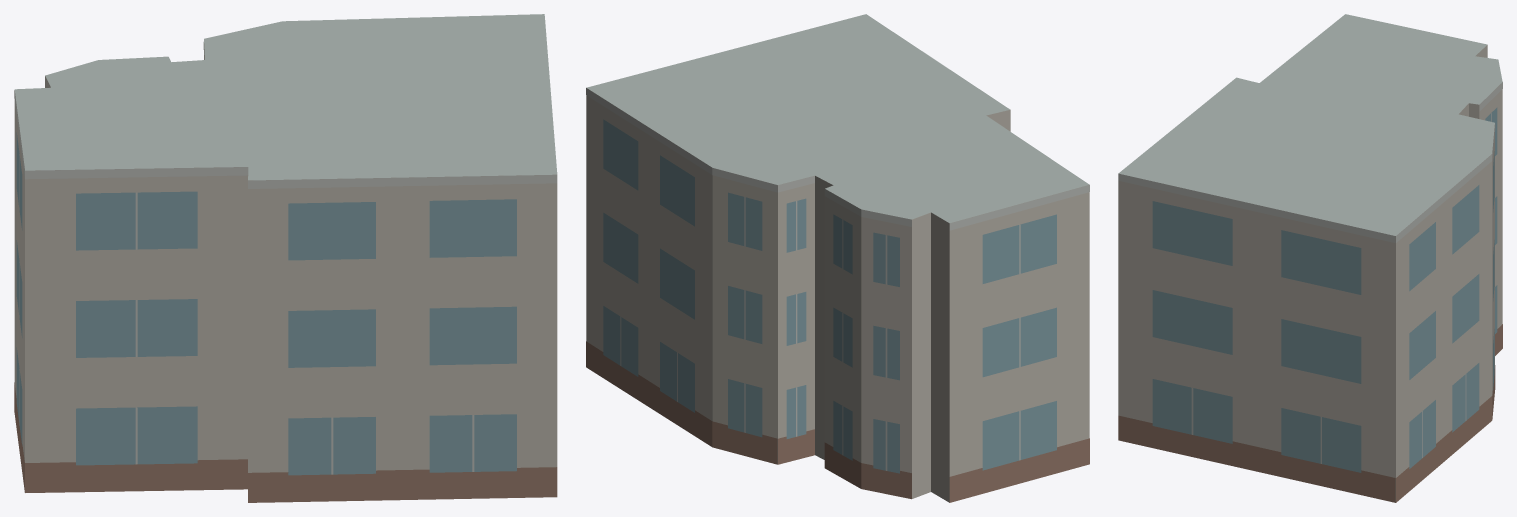
The model's file is survey-upis-32684279.glb.
3 renders of one model, left to right at view 1: azimuth 30°, elevation 25°; view 2: azimuth 150°, elevation 25°; view 3: azimuth 270°, elevation 25°, orthographic. The views are drawn at different scales.
Parts seen in each view (by area): view 1: survey-upis-32684279.tmp; view 2: survey-upis-32684279.tmp; view 3: survey-upis-32684279.tmp.
Boxes of the visible parts, bbox=[...] form: survey-upis-32684279.tmp: bbox=[14, 14, 557, 502]; survey-upis-32684279.tmp: bbox=[586, 14, 1089, 502]; survey-upis-32684279.tmp: bbox=[1118, 14, 1502, 502].
Bounding box in the file's own units: 16.35 × 9.15 × 11.96.
